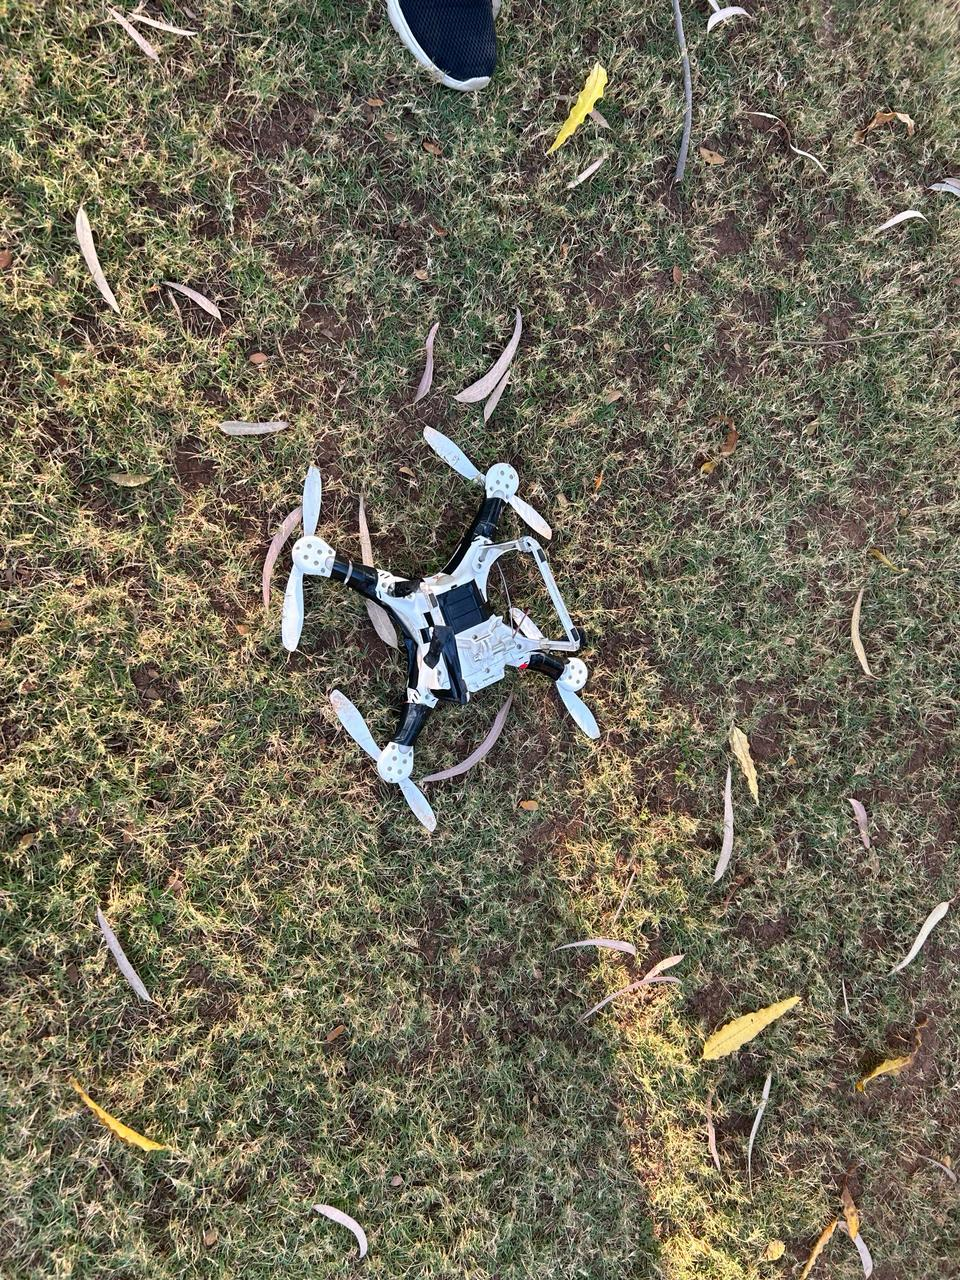drone: (259, 433, 615, 799)
